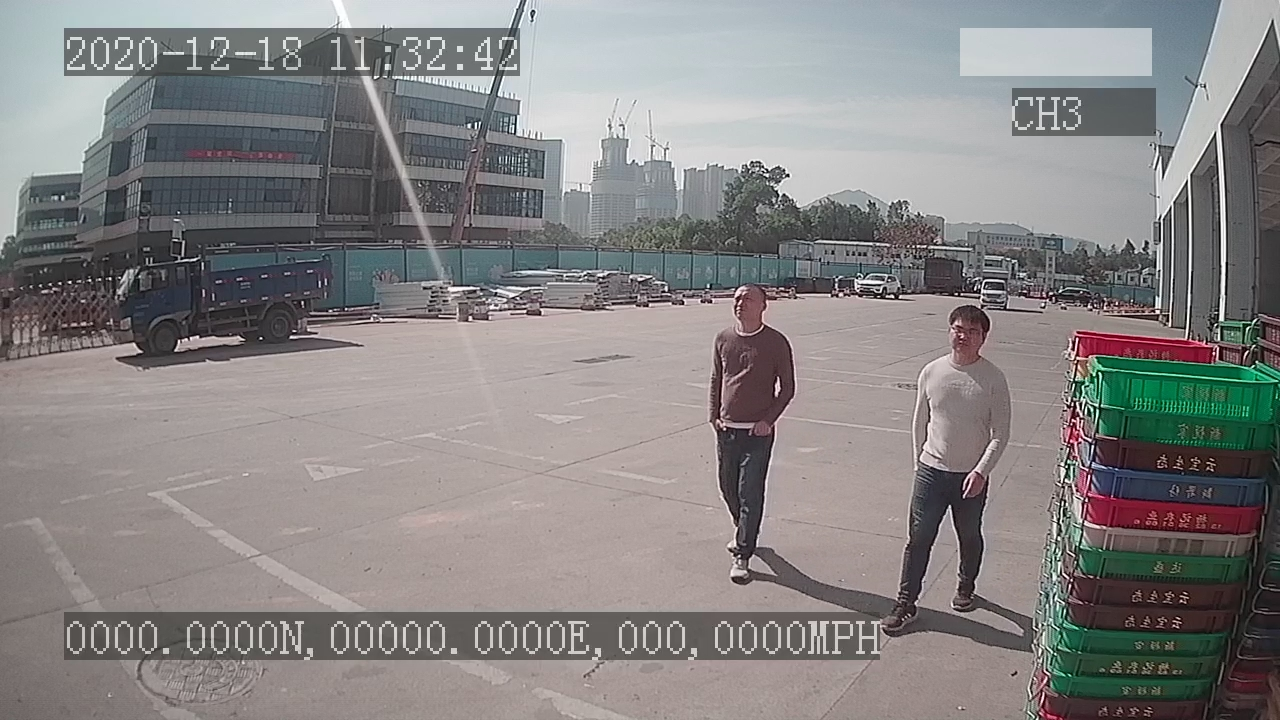person: (708, 279, 795, 581)
